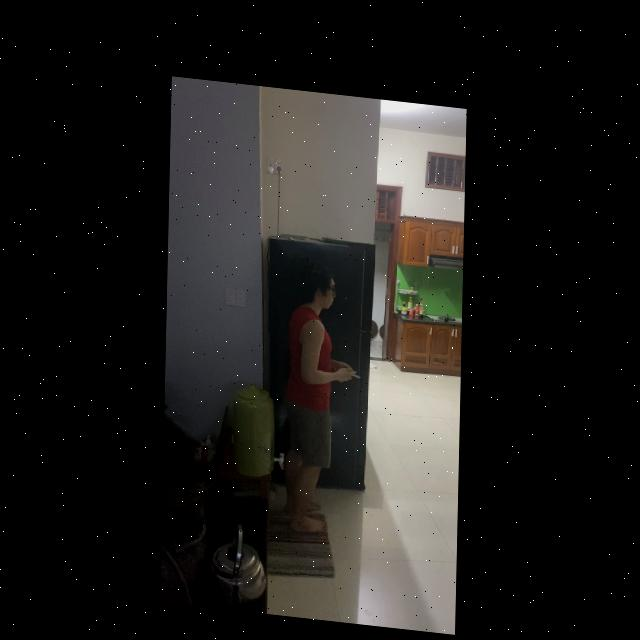cigarette: (352, 366, 361, 370)
